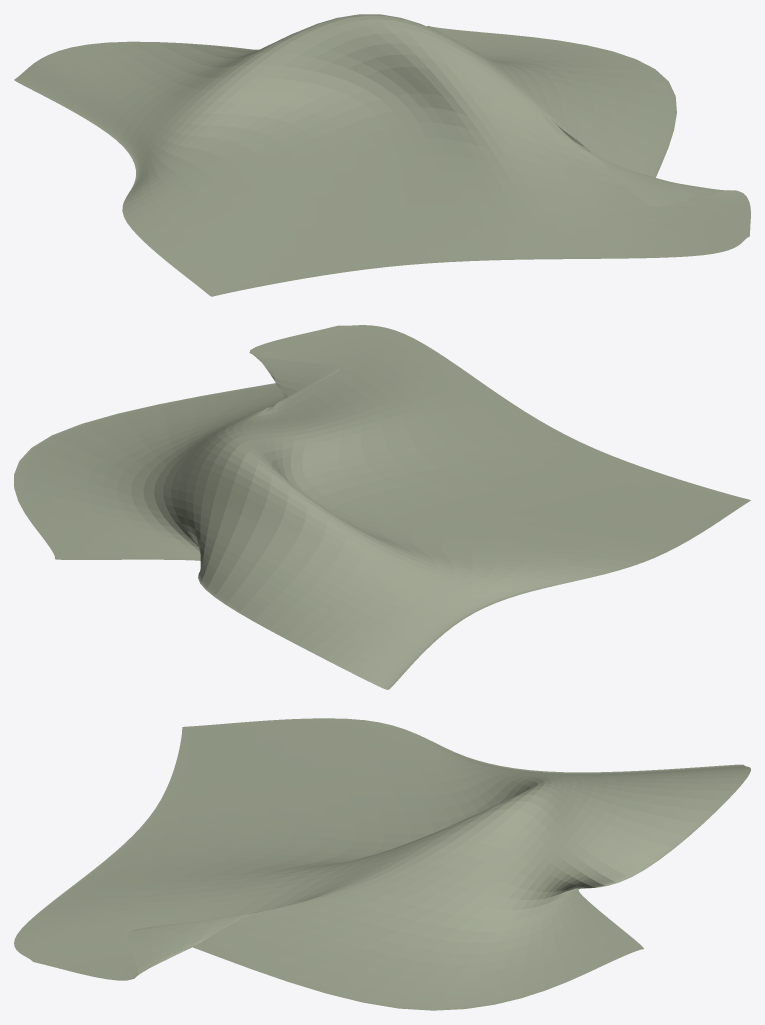
The model's file is rag.glb.
3 renders of one model, top to bottom at view 1: azimuth 30°, elevation 25°; view 2: azimuth 150°, elevation 25°; view 3: azimuth 270°, elevation 25°, orthographic. The views are drawn at different scales.
Visible parts, largest first — view 1: Plane; view 2: Plane; view 3: Plane.
Part boxes in pixels (left/top/right/bottom): Plane: left=14, top=14, right=750, bottom=296; Plane: left=14, top=325, right=750, bottom=689; Plane: left=14, top=718, right=750, bottom=1010.
Bounding box in the file's own units: 1.36 × 0.1929 × 1.48.
